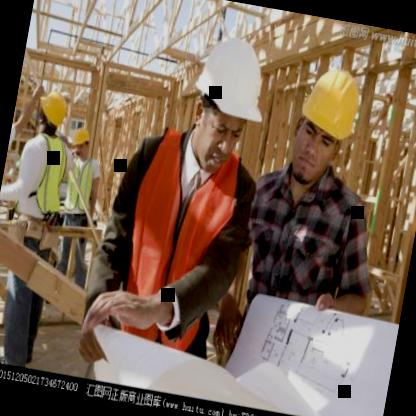helmet: (180, 29, 274, 181), (284, 58, 368, 190), (32, 84, 72, 140), (66, 124, 94, 162)
